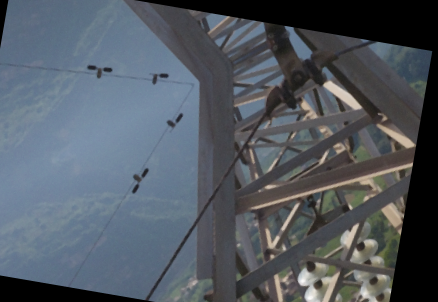damper: (128, 163, 150, 194), (85, 63, 113, 80)
damper_defect: (163, 112, 184, 134), (145, 69, 169, 86)
